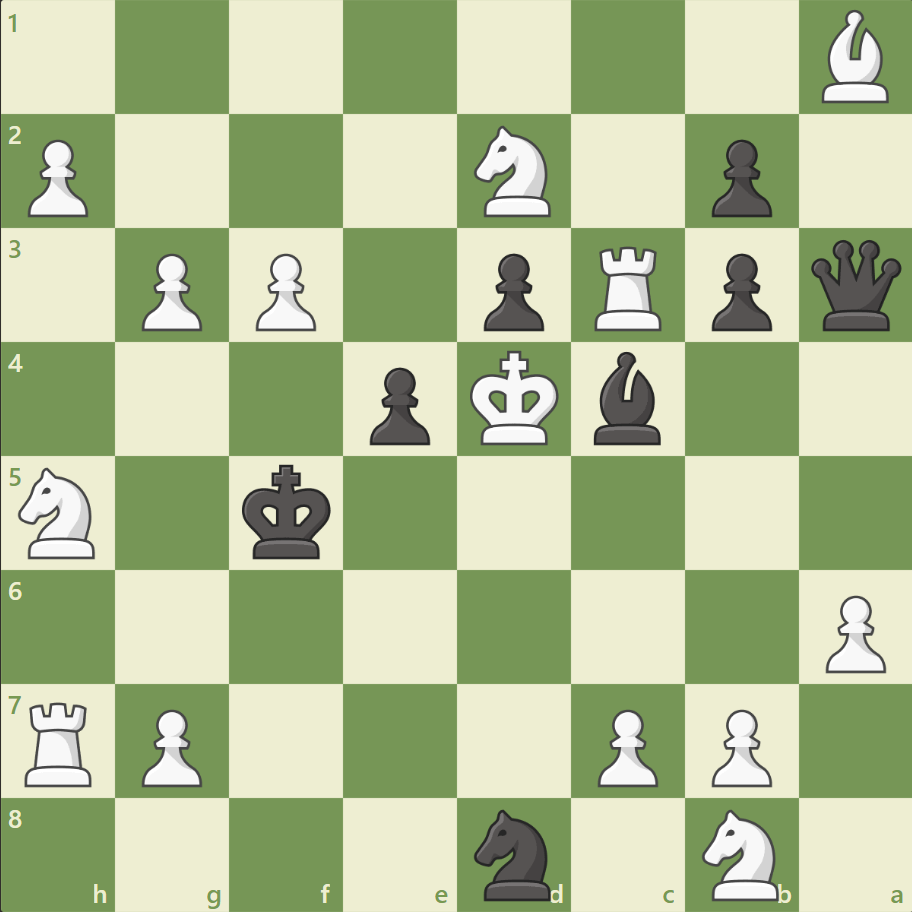B: (812, 6, 896, 109)
K: (465, 344, 565, 452)
N: (11, 461, 108, 564), (692, 802, 789, 904), (465, 121, 562, 223)
P: (701, 700, 776, 791), (133, 700, 208, 791), (247, 246, 322, 337), (133, 246, 208, 337), (20, 132, 95, 223), (588, 700, 662, 791), (815, 586, 889, 677)
R: (19, 693, 102, 790), (587, 239, 670, 336)
b: (585, 347, 669, 449)
k: (238, 458, 338, 566)
n: (465, 802, 562, 904)
p: (701, 246, 776, 337), (474, 246, 549, 337), (701, 132, 776, 223), (361, 359, 435, 450)
q: (805, 236, 904, 335)
